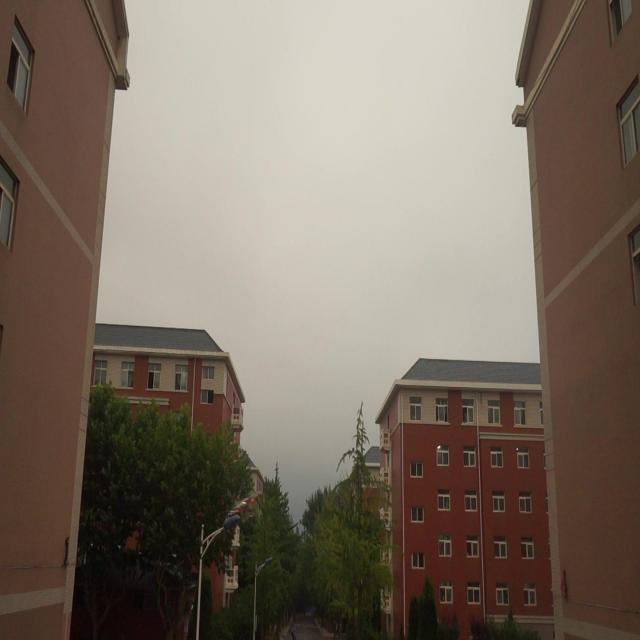UAV: (227, 492, 260, 524)
